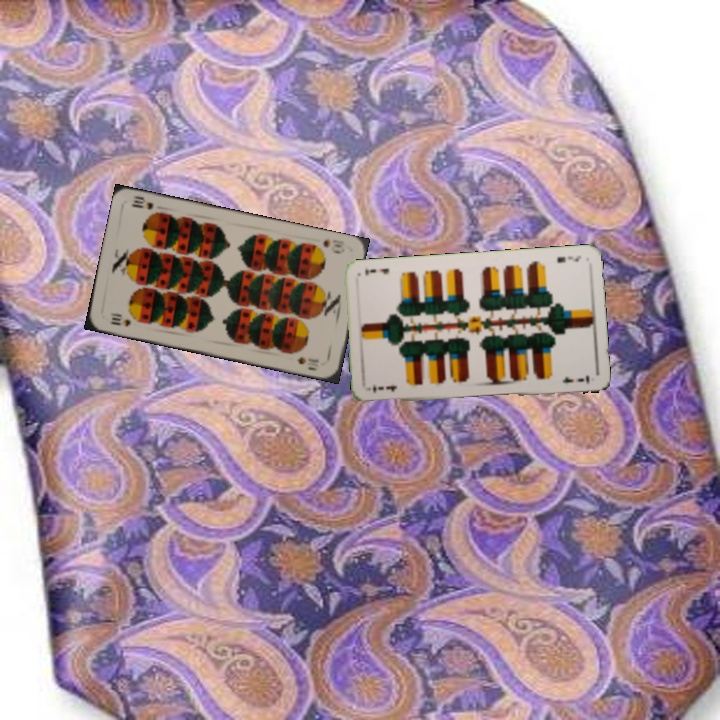E7: (369, 381, 399, 396), (552, 252, 584, 265)
S10: (319, 234, 347, 256), (106, 310, 133, 329)
